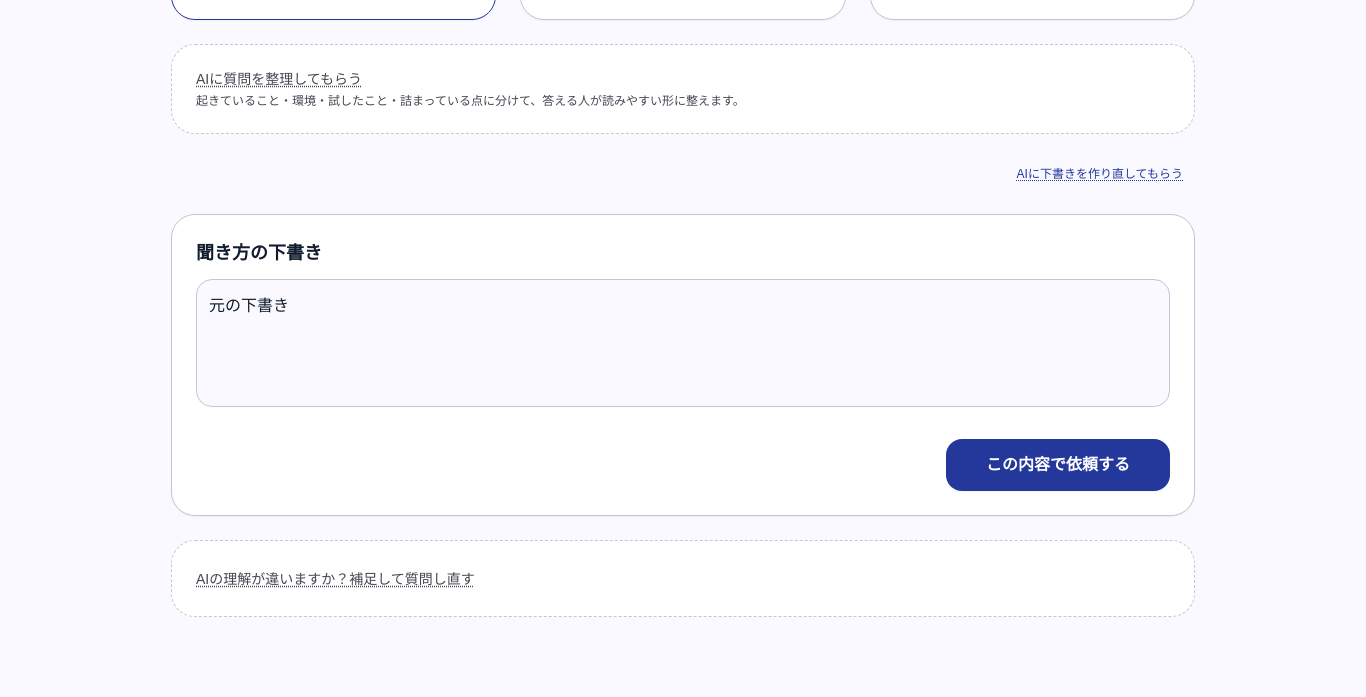
Test: ResultScreen — main line (person) › confirms the send: POSTs the edited draft to the pending hand-off (#174)
This screenshot has width=1366, height=697.
(page scrolled)
Replace the text in the text box named "聞き方の下書き" with "編集後の依頼文". click: (683, 343)
box: [196,279,1170,407]
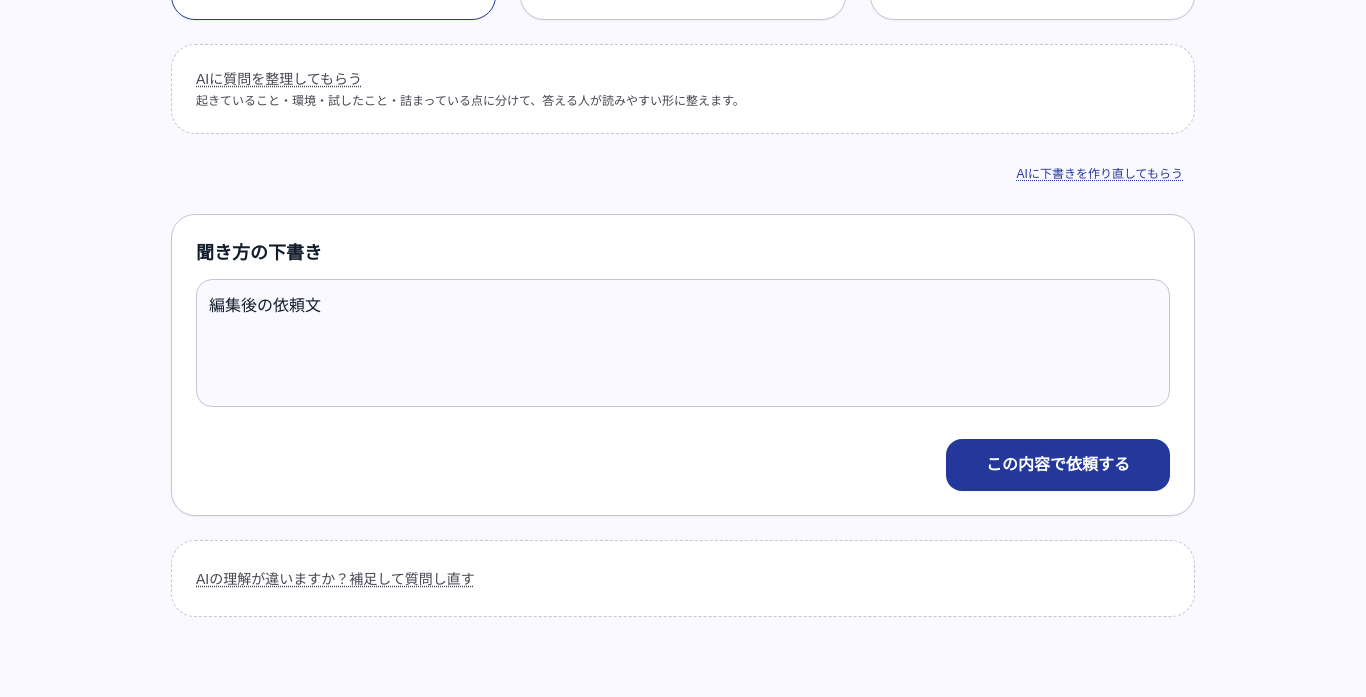
Click the button "この内容で依頼する". click: (1058, 465)
box: [946,439,1170,491]
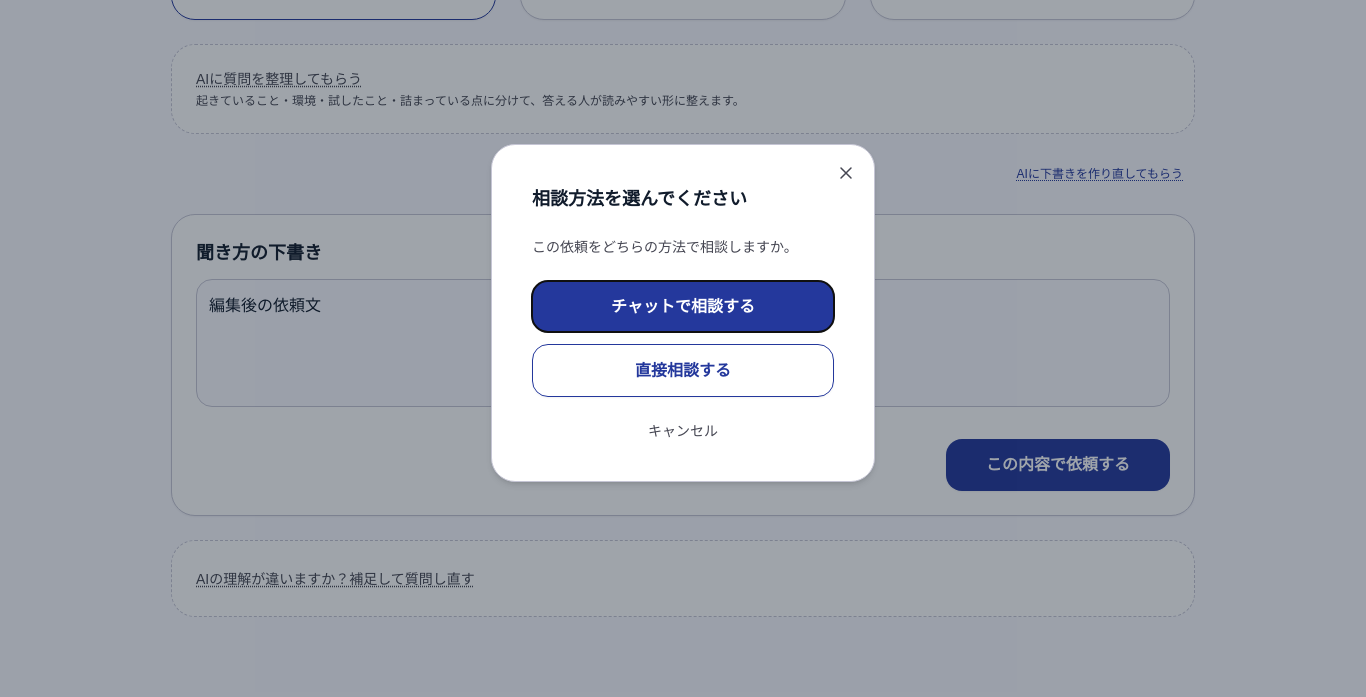
Sending now goes through the consultation-method popup (#245).
Click the button "チャットで相談する". click: (683, 306)
box: [532,281,834,332]
(page scrolled)
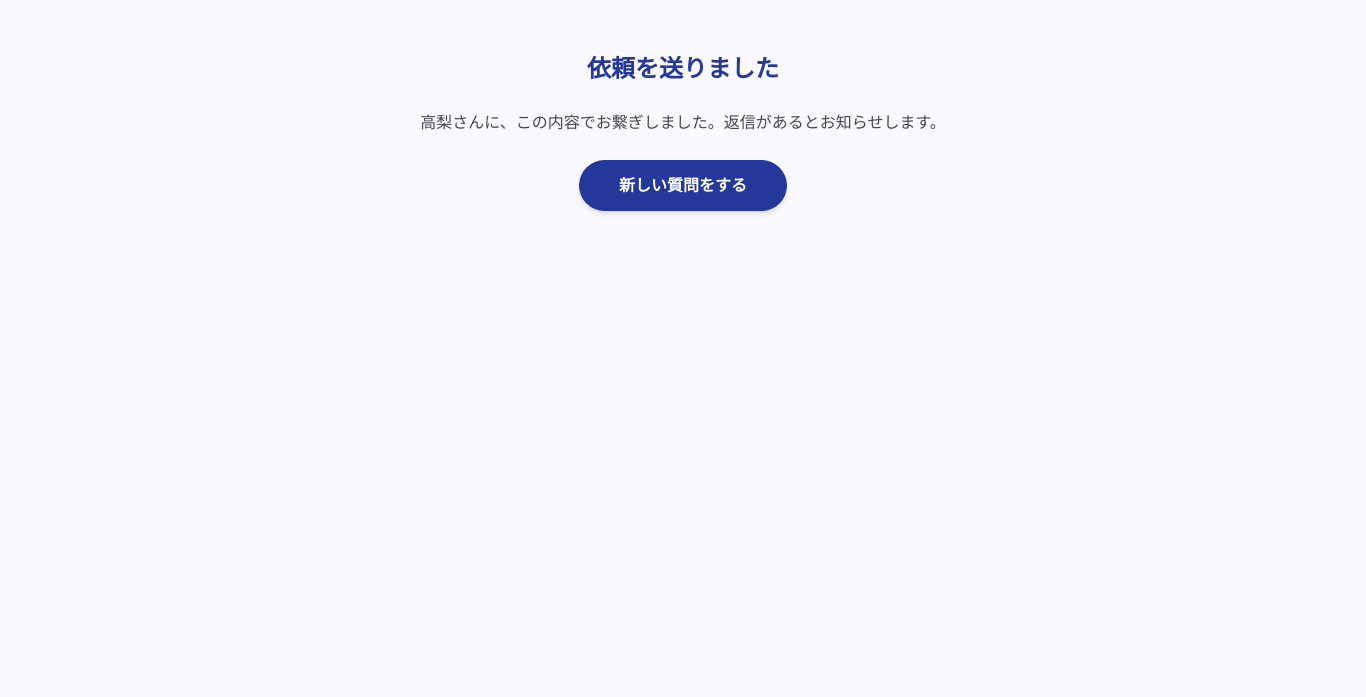
expect the heading "依頼を送りました" is shown: met, box [587,55,779,82]
expect the text "高梨さんに、この内容でお繋ぎしました。返信があるとお知らせします。" is shown: met, box [420,114,946,131]
